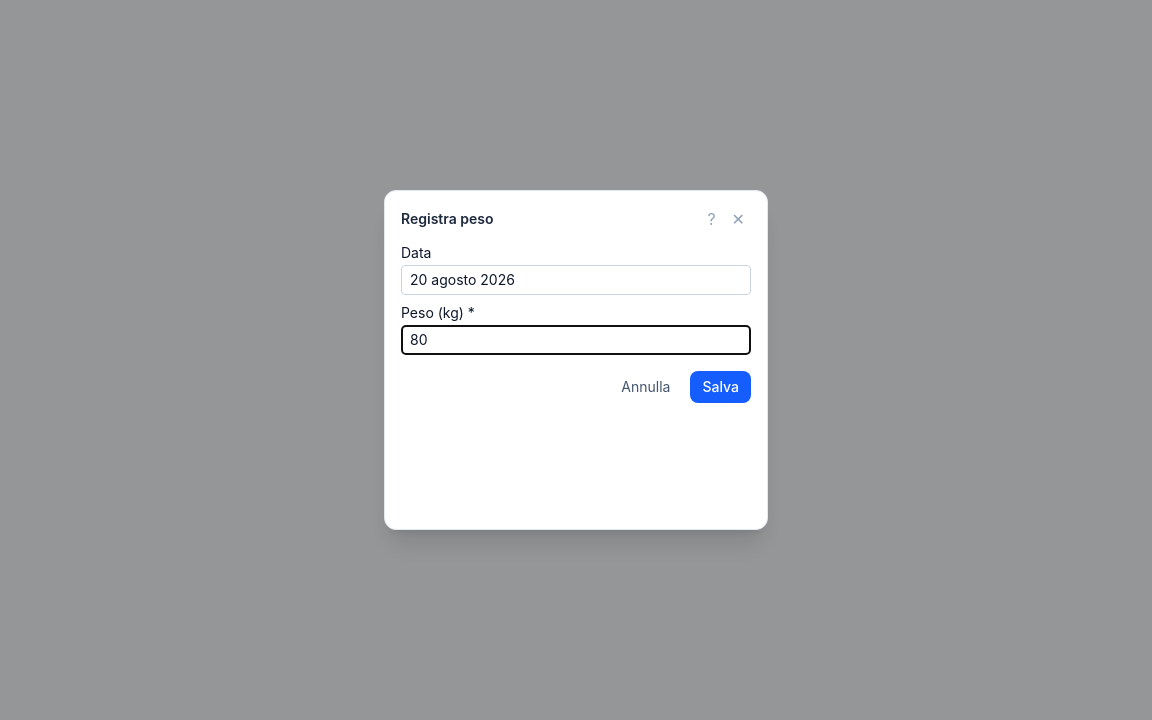
WeightEntryModal › WeightEntryModal_pesoVuoto_mostraErroreSenzaSalvare
Clear the number field at (576, 340), box [401,325,751,355]
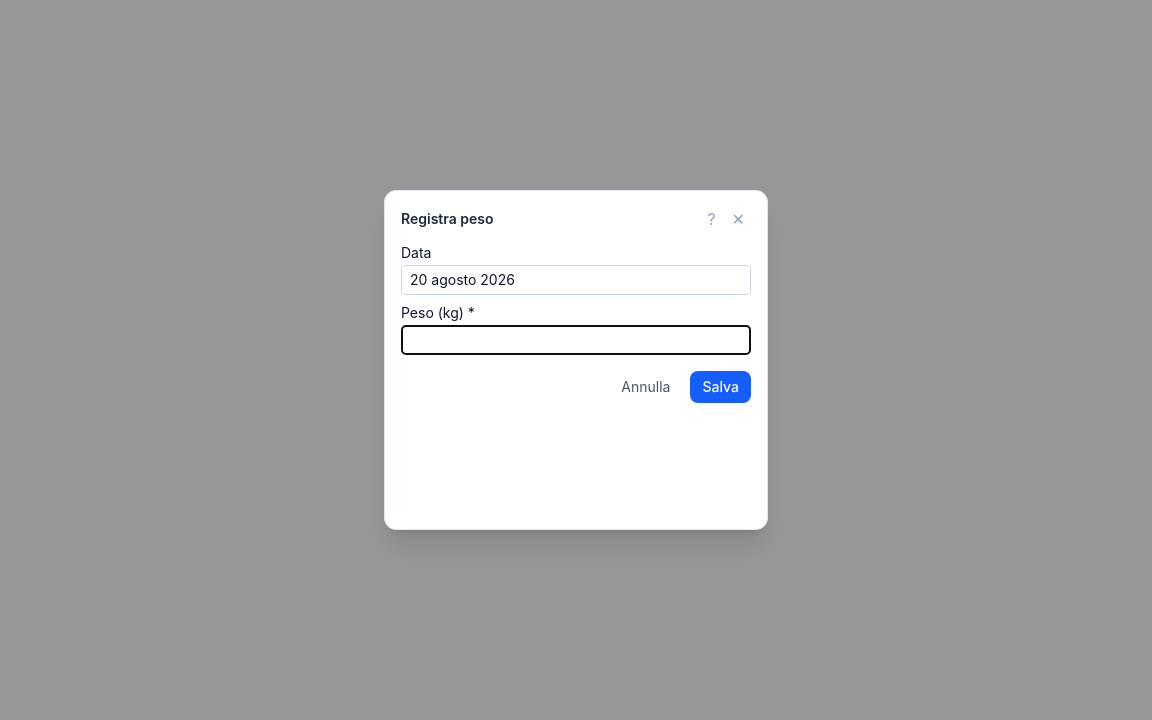
Click the button "Salva".
click(721, 387)  # box [690,371,751,403]
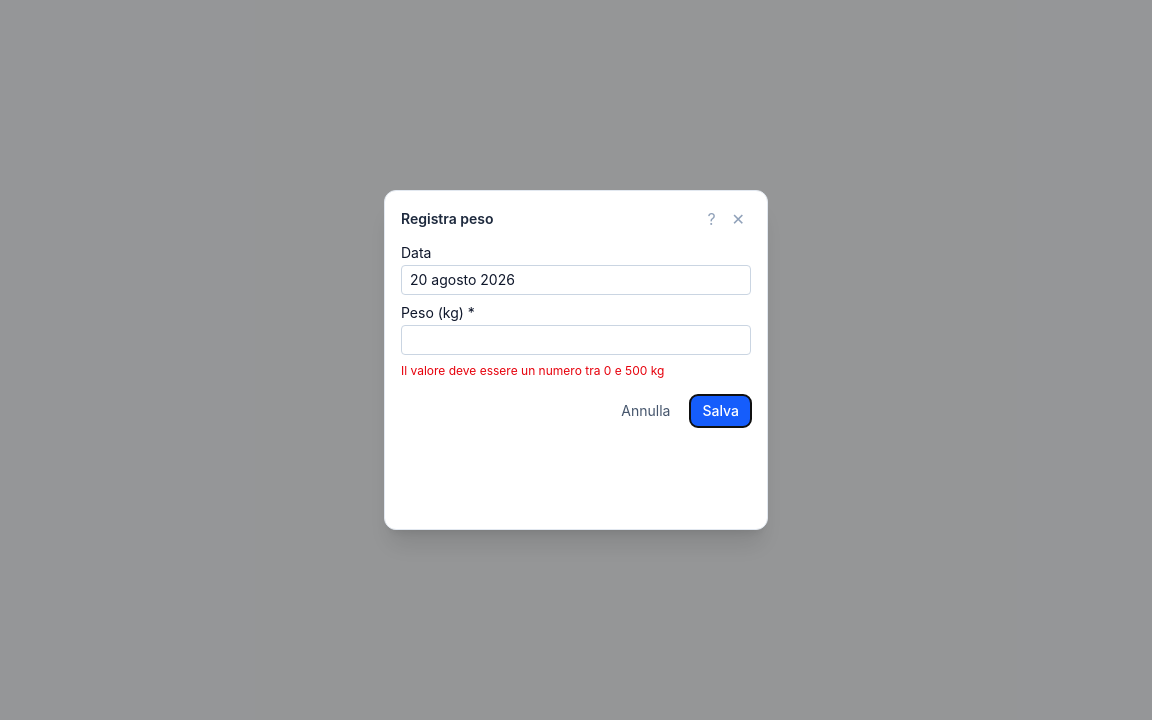
Expected: the text "Il valore deve essere un numero tra 0 e 500 kg" is shown, [401,363,664,378]
